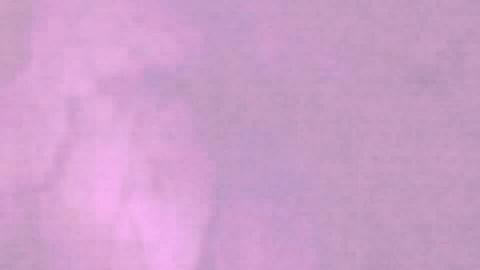tomato: (152, 155, 434, 269)
